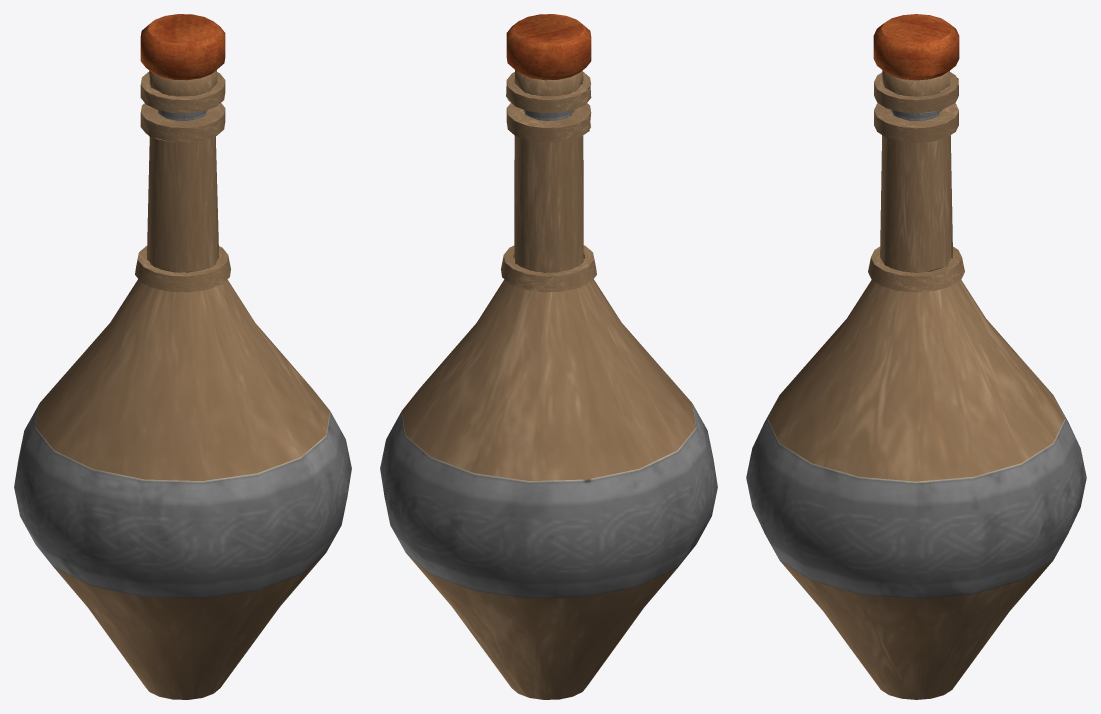
The model's file is clay_bottle.glb.
3 renders of one model, left to right at view 1: azimuth 30°, elevation 25°; view 2: azimuth 150°, elevation 25°; view 3: azimuth 270°, elevation 25°, orthographic.
Parts seen in each view (by area): view 1: Object_6; view 2: Object_6; view 3: Object_6.
Part boxes in pixels (bbox=[...]): Object_6: bbox=[14, 14, 351, 699]; Object_6: bbox=[380, 14, 717, 699]; Object_6: bbox=[746, 14, 1086, 699].
Bounding box in the file's own units: 0.2 × 0.4242 × 0.2.
Materials: 1 (1 with a texture image).
